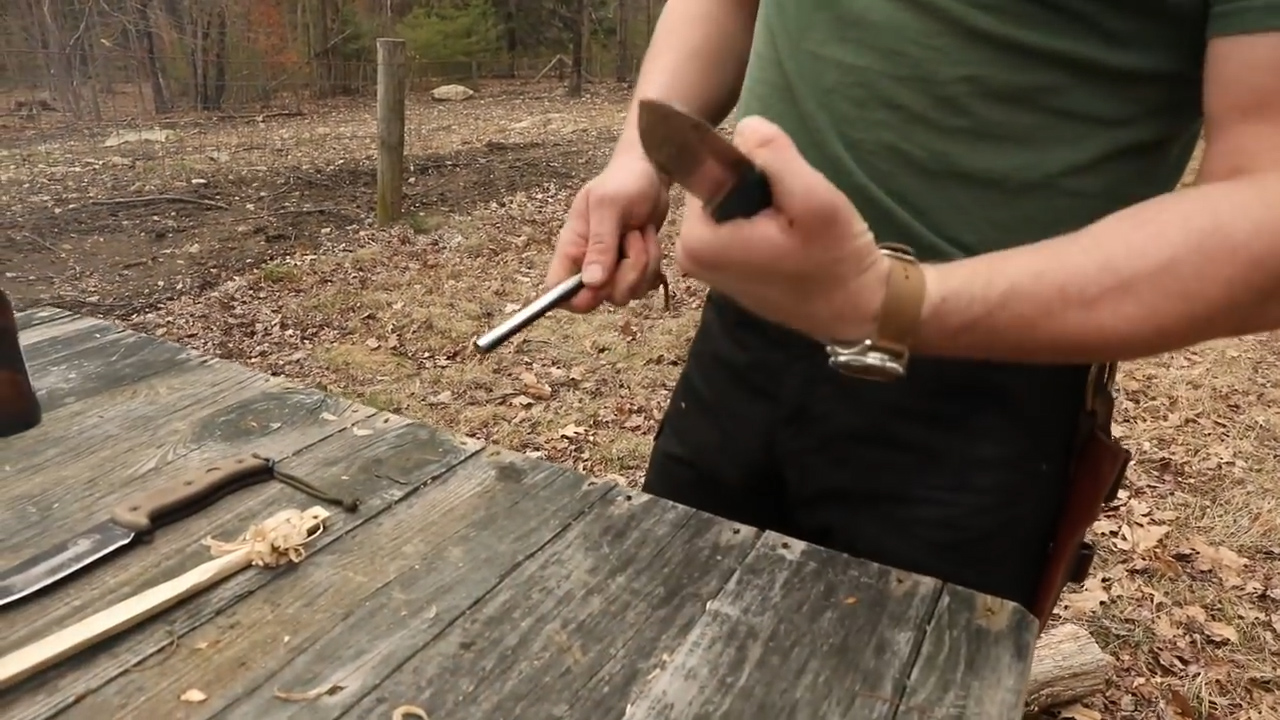knife: (629, 78, 828, 296)
